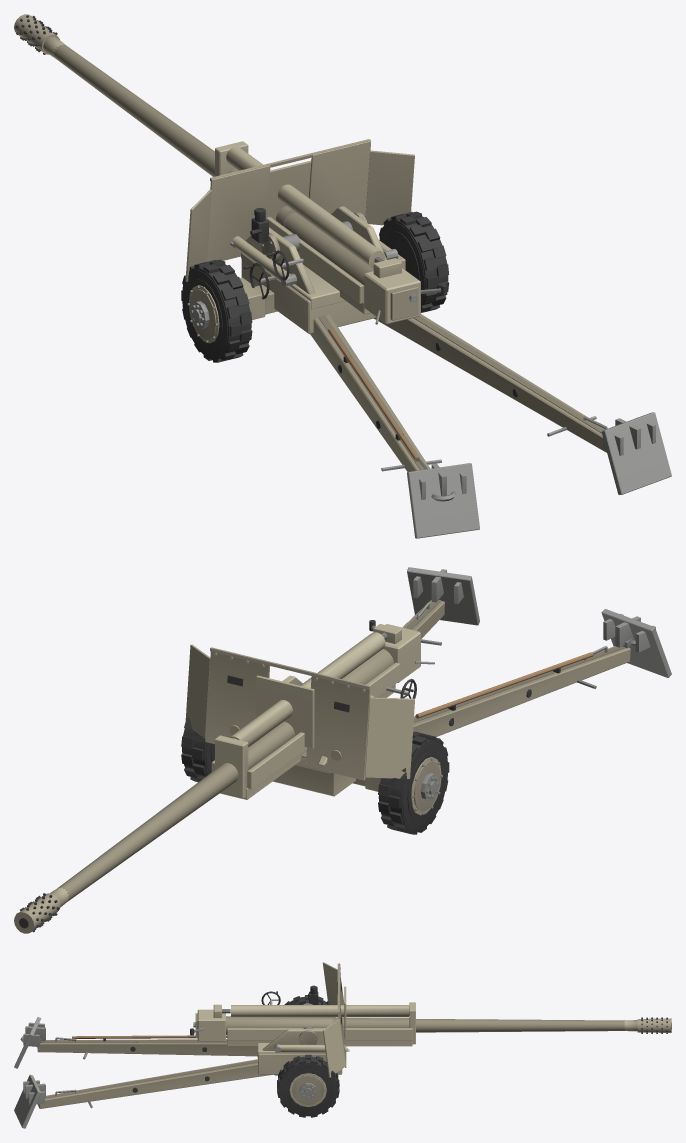
File: atgun_usa.glb
3 views of the same model, one above another, from view 1: azimuth 30°, elevation 25°; view 2: azimuth 150°, elevation 25°; view 3: azimuth 270°, elevation 25° (orthographic). The views are drawn at different scales.
Visible parts, largest first — view 1: body, turret, barrel, wheel_0, wheel_1; view 2: barrel, turret, body, wheel_0, wheel_1; view 3: barrel, body, turret, wheel_1.
Boxes of the visible parts, box(x1,y1,x2,y2) form: body: box(240, 253, 671, 538); turret: box(185, 139, 414, 309); barrel: box(14, 14, 447, 324); wheel_0: box(181, 259, 252, 362); wheel_1: box(379, 211, 449, 312); barrel: box(14, 620, 434, 933); turret: box(185, 644, 416, 780); body: box(273, 567, 671, 796); wheel_0: box(378, 731, 449, 834); wheel_1: box(181, 717, 214, 782); barrel: box(190, 986, 671, 1046); body: box(14, 1017, 342, 1128); turret: box(257, 962, 349, 1077); wheel_1: box(277, 1054, 339, 1117).
Bounding box in the file's own units: 2.72 × 1.68 × 9.75.
